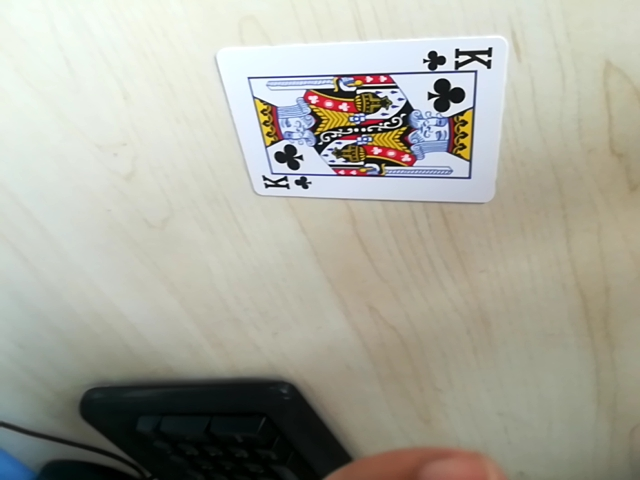mh k: (426, 42, 495, 73), (252, 170, 310, 194)
